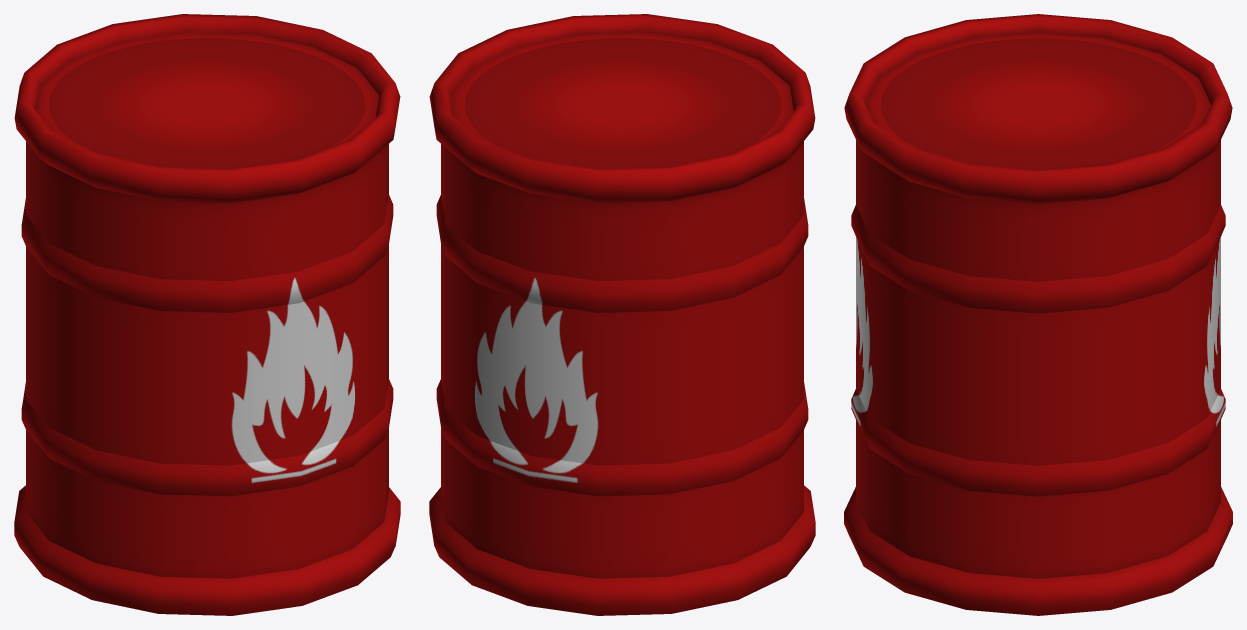
File: barrel.fbx
3 views of the same model, side by side, from view 1: azimuth 30°, elevation 25°; view 2: azimuth 150°, elevation 25°; view 3: azimuth 270°, elevation 25° (orthographic).
Parts seen in each view (by area): view 1: barrel; view 2: barrel; view 3: barrel.
Boxes of the visible parts, x1=… form: barrel: x1=14, y1=14, x2=400, y2=615; barrel: x1=429, y1=14, x2=815, y2=615; barrel: x1=844, y1=14, x2=1232, y2=615.
Size of the model in its own units: 24.68 by 30.94 by 24.68.
